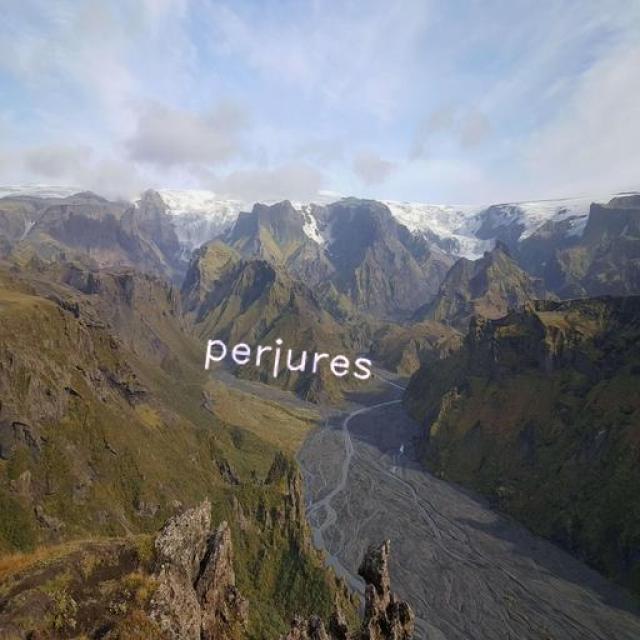watermark: (192, 328, 402, 386)
